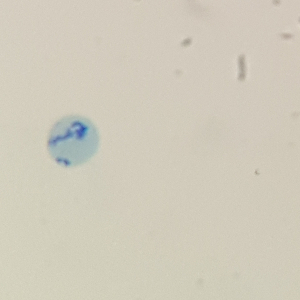aggregate reticulocyte: (45, 113, 102, 170)
